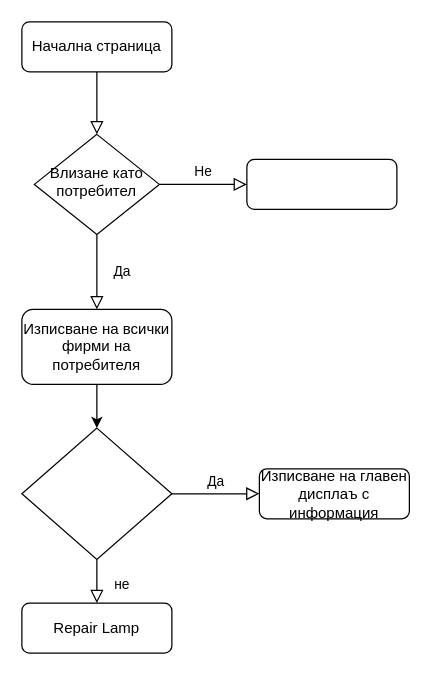
Image size: 431x675. Some labels were removed from this diagram. The box of each missing label's shape, as (x1, y1, x2, y2) in pixels:
Има ли достъп до ресурсите на фимата: (21, 427, 172, 559)
Няма достъп до фирми не се визуализира нищо: (246, 158, 397, 209)
